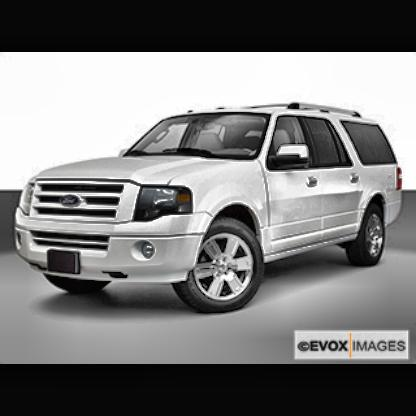Ford Expedition EL SUV 2009: (14, 101, 406, 315)
